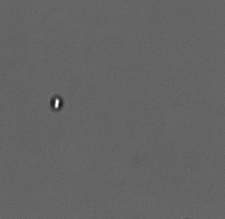Living Cell: (48, 93, 64, 111)
